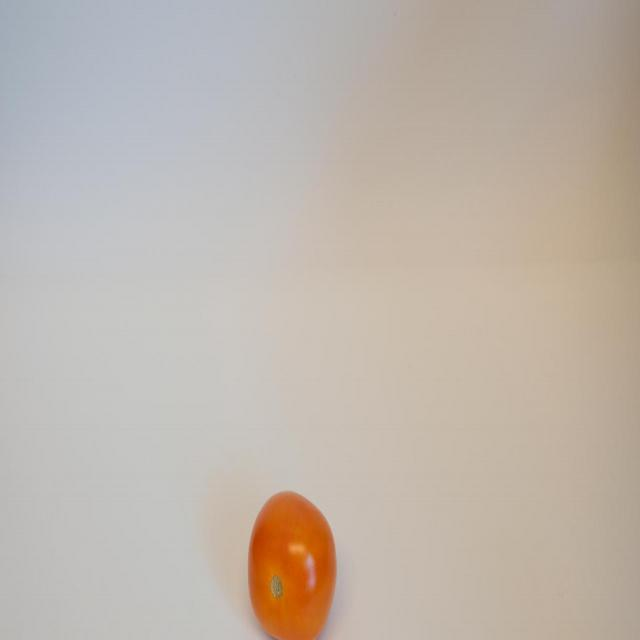tomato: (246, 487, 340, 638)
